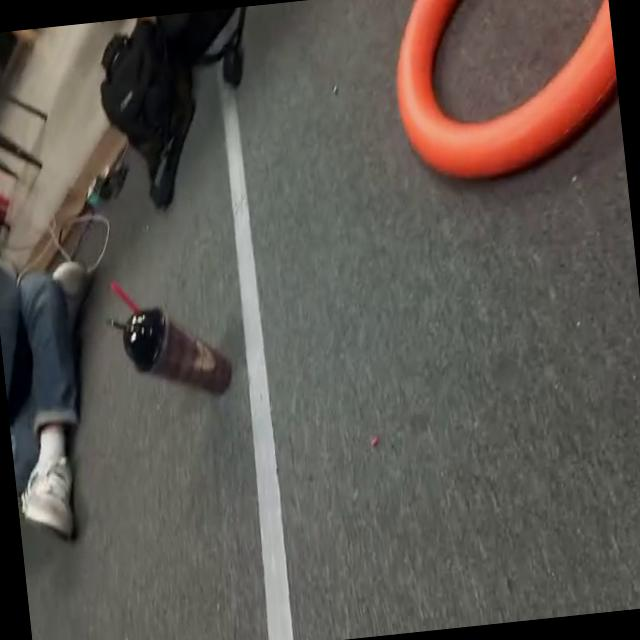note: (374, 0, 628, 211)
